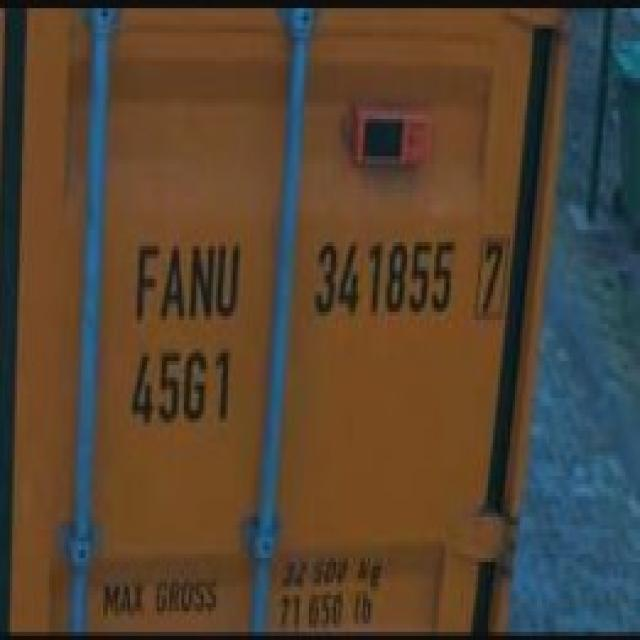dv: (473, 231, 510, 321)
owner: (130, 238, 243, 327)
serial: (306, 229, 459, 323)
size: (123, 340, 234, 433)
